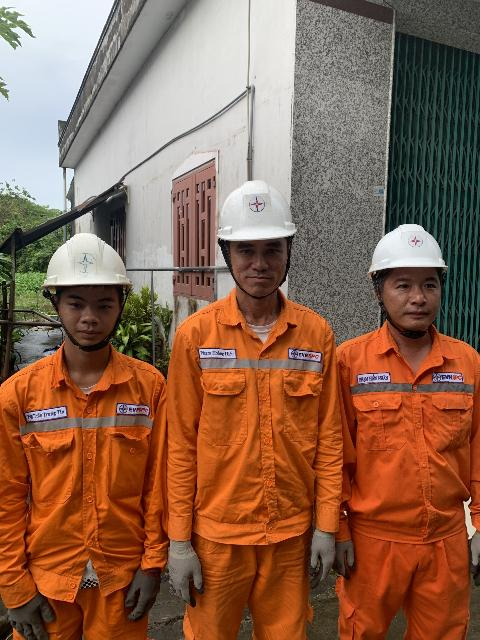gloves: (153, 529, 223, 606), (8, 583, 70, 640), (120, 559, 164, 628), (328, 530, 370, 584), (302, 528, 336, 588), (459, 532, 480, 585)
helmet: (336, 201, 465, 290), (31, 229, 147, 301), (202, 178, 314, 247)
